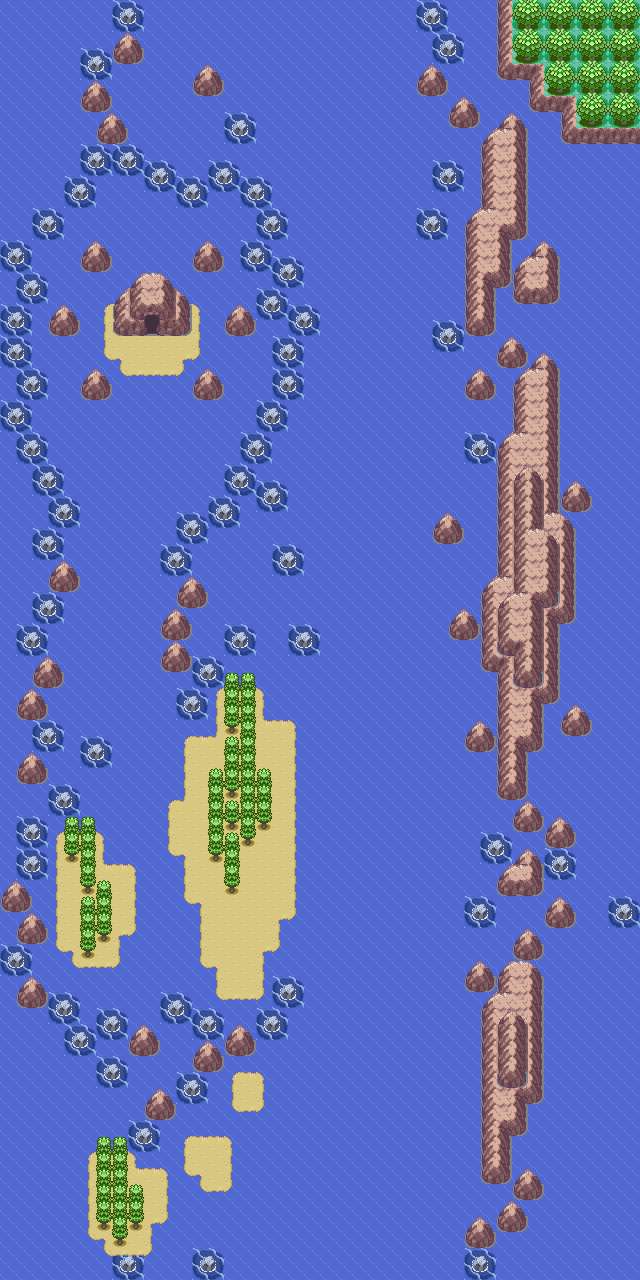cave: (112, 269, 195, 342)
